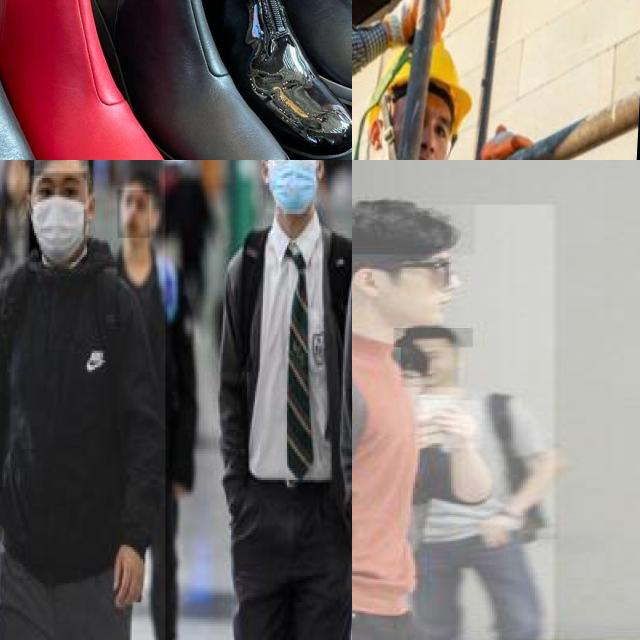No_Ear-Protection: (352, 264, 390, 305)
Sandals: (67, 0, 323, 160), (0, 0, 210, 160), (0, 0, 120, 160)
face_mask: (29, 171, 87, 264), (266, 160, 317, 216)
face_nomask: (372, 252, 463, 330), (401, 347, 458, 387), (117, 190, 151, 240)
hand_noglove: (110, 540, 150, 617), (422, 400, 482, 448), (480, 512, 525, 550)
head_nohelmet: (352, 204, 475, 254), (393, 328, 472, 347), (34, 160, 90, 173)
person: (352, 204, 556, 640), (0, 160, 167, 640), (189, 160, 352, 640)
